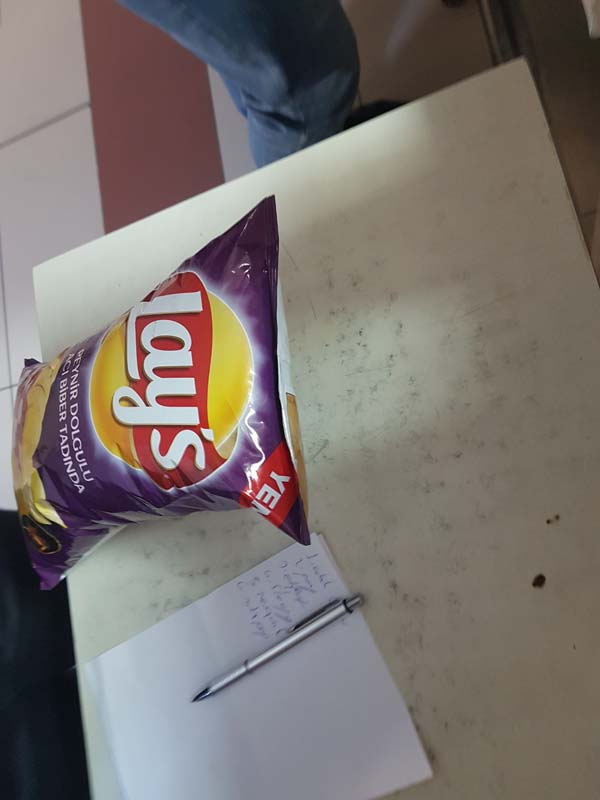layspeynirsoslu: (5, 192, 318, 600)
